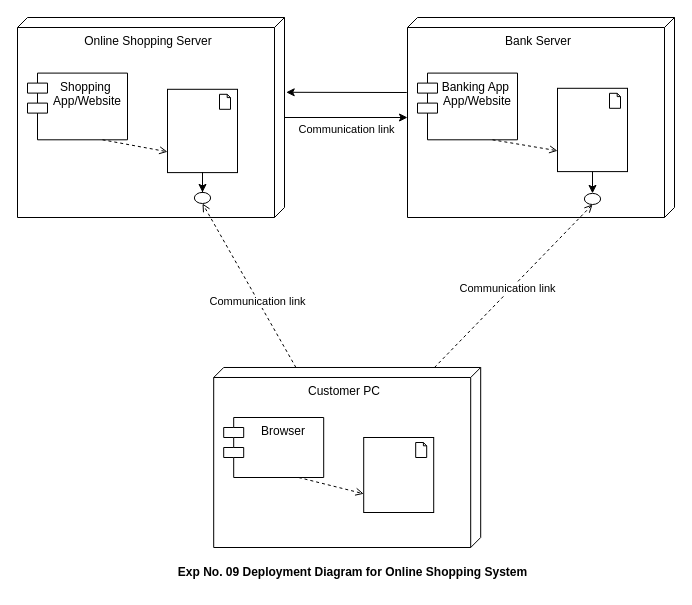
Image size: 692x605. Some labels were removed from this diagram. The centre of each missing label's shape, as x and y in pixels:
"Cookies Files History" belongs at point (398, 474).
"Customer Database" belongs at point (592, 129).
"User Database" belongs at point (202, 130).
